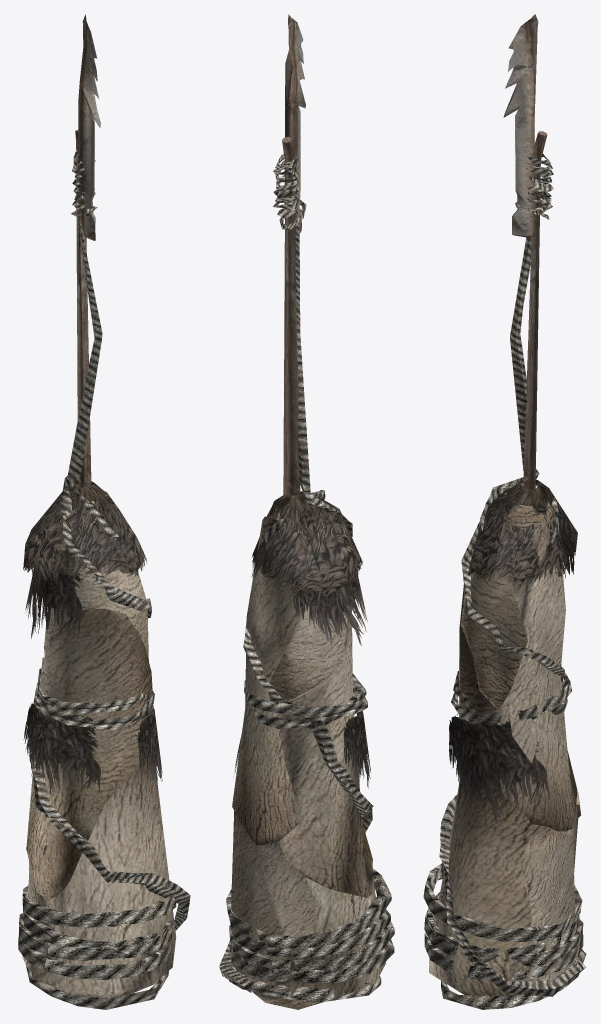
File: harpoon_3.obj
The picture shows the model from 3 angles, left to right: view 1: azimuth 30°, elevation 25°; view 2: azimuth 150°, elevation 25°; view 3: azimuth 270°, elevation 25°; orthographic projection. The views are drawn at different scales.
Visible parts, largest first — view 1: harpoon_3; view 2: harpoon_3; view 3: harpoon_3.
Boxes of the visible parts, left/top/right/bottom form: harpoon_3: left=18, top=14, right=190, bottom=1009; harpoon_3: left=219, top=14, right=394, bottom=1009; harpoon_3: left=423, top=14, right=586, bottom=1009.
Size of the model in its own units: 16.61 by 105 by 15.78.
